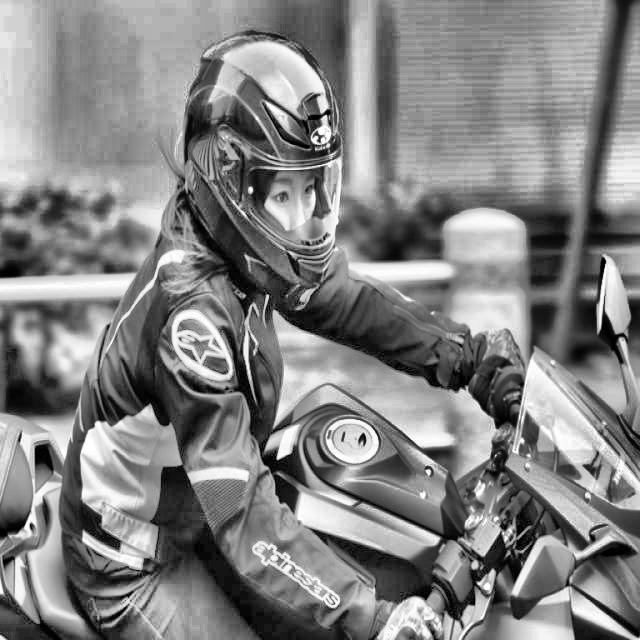Helmet: (178, 21, 346, 322)
